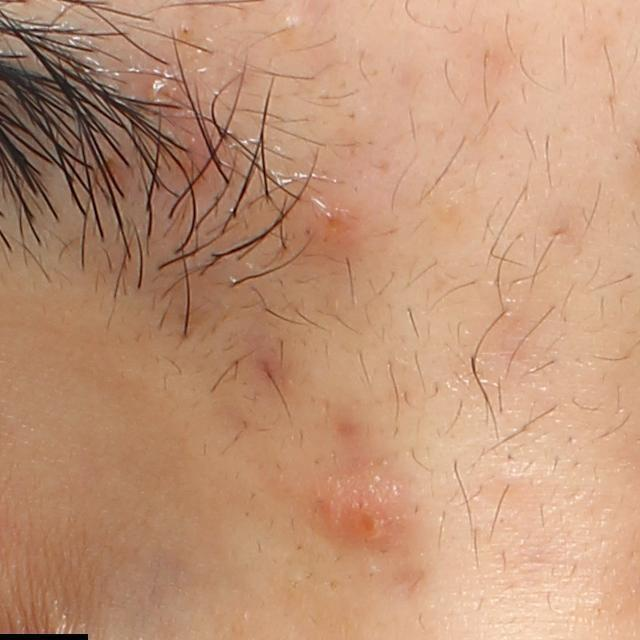comedo: (273, 10, 307, 41)
papule: (305, 465, 425, 554), (290, 188, 367, 259)
